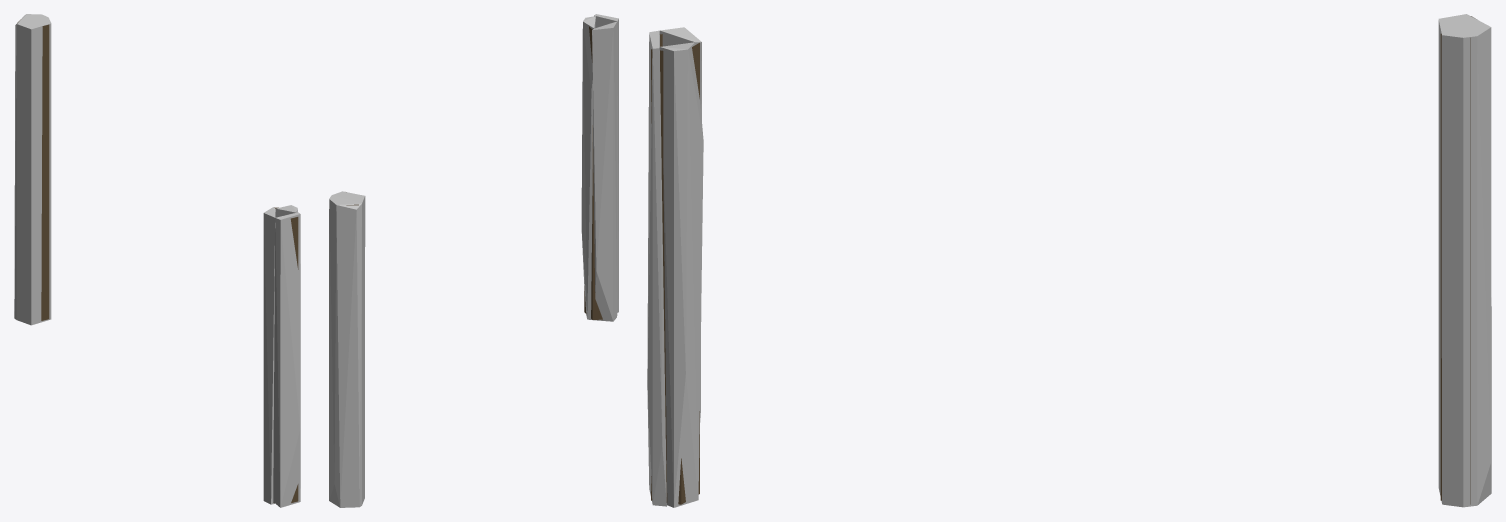
The model's file is SM_Bld_Well_01_Rope_01.fbx.
3 views of the same model, side by side, from view 1: azimuth 30°, elevation 25°; view 2: azimuth 150°, elevation 25°; view 3: azimuth 270°, elevation 25° (orthographic). The views are drawn at different scales.
Parts seen in each view (by area): view 1: SM_Bld_Well_01_Rope_01_ConvexHulls, SM_Bld_Well_01_Rope_01; view 2: SM_Bld_Well_01_Rope_01_ConvexHulls, SM_Bld_Well_01_Rope_01; view 3: SM_Bld_Well_01_Rope_01_ConvexHulls, SM_Bld_Well_01_Rope_01.
Part boxes in pixels (x1=…): SM_Bld_Well_01_Rope_01_ConvexHulls: x1=14, y1=14, x2=300, y2=507; SM_Bld_Well_01_Rope_01: x1=17, y1=19, x2=298, y2=503; SM_Bld_Well_01_Rope_01_ConvexHulls: x1=329, y1=14, x2=618, y2=507; SM_Bld_Well_01_Rope_01: x1=346, y1=26, x2=602, y2=319; SM_Bld_Well_01_Rope_01_ConvexHulls: x1=647, y1=14, x2=1491, y2=507; SM_Bld_Well_01_Rope_01: x1=651, y1=16, x2=1475, y2=504.
Size of the model in its own units: 2.51 by 37.35 by 22.97.
2 materials, 1 textured.
